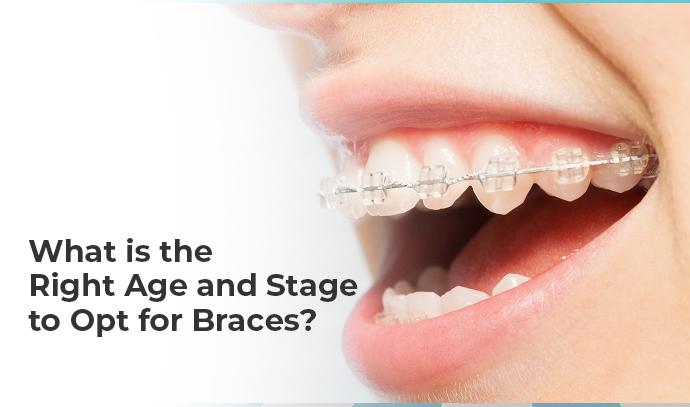Braces: (316, 142, 659, 213)
